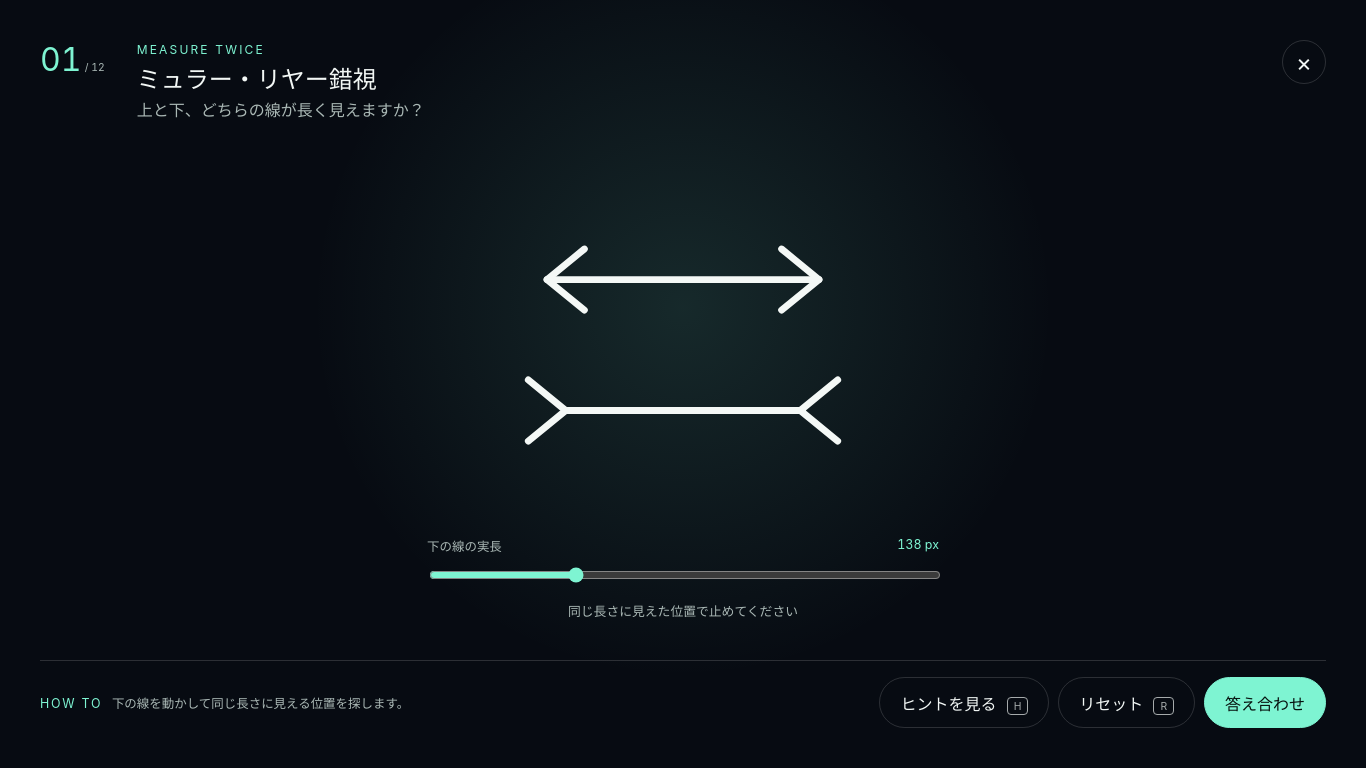
Test case: ExhibitExperience › records interaction and answer-check progress
Step 1. Set the slider named "下の線の実長" to "150" → (635, 575), box x1=429 y1=567 x2=941 y2=583
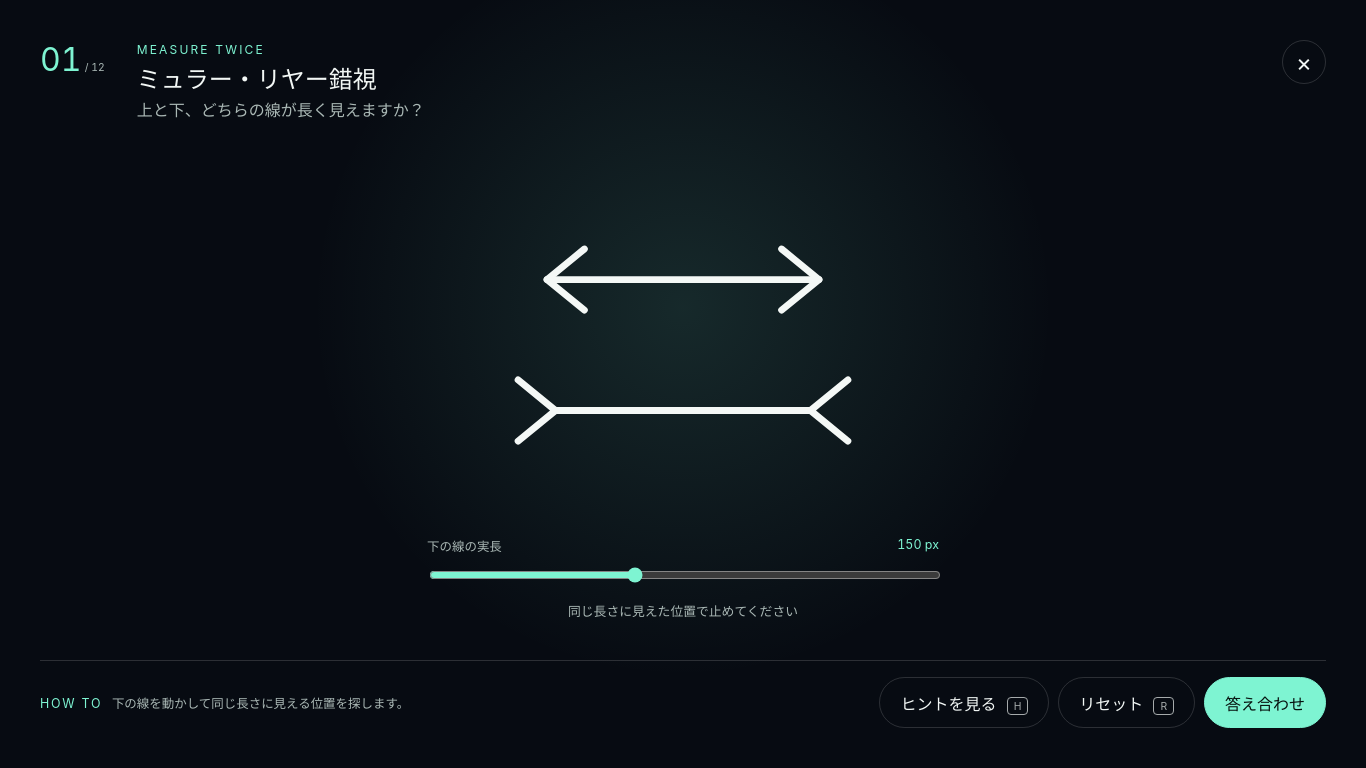
Step 2. Click the button "答え合わせ" → (1265, 703), box x1=1204 y1=677 x2=1326 y2=728
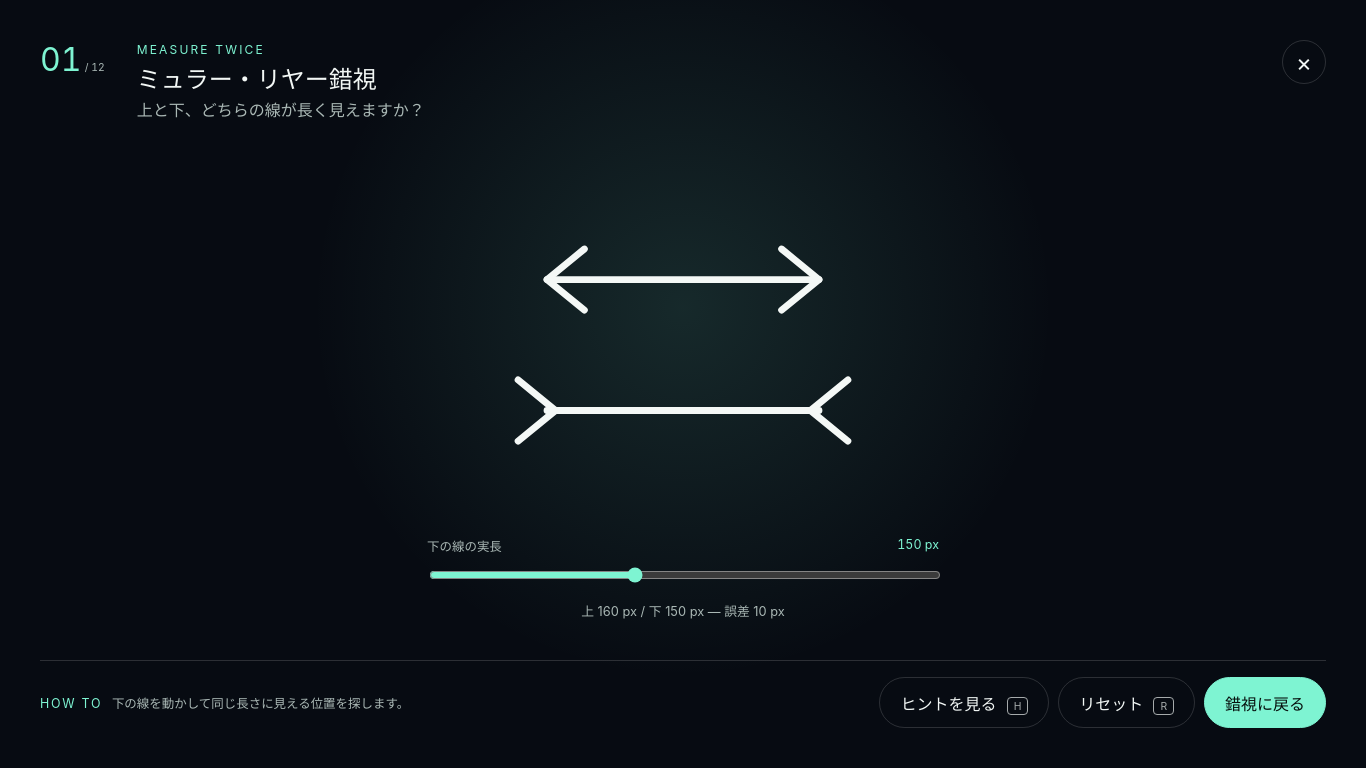
Result: the text "上 160 px / 下 150 px — 誤差 10 px" is shown at x1=581 y1=601 x2=785 y2=620
